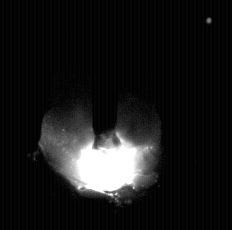arame: (93, 0, 118, 149)
poca: (40, 0, 161, 230)
